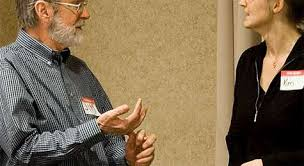person: (11, 4, 102, 58)
